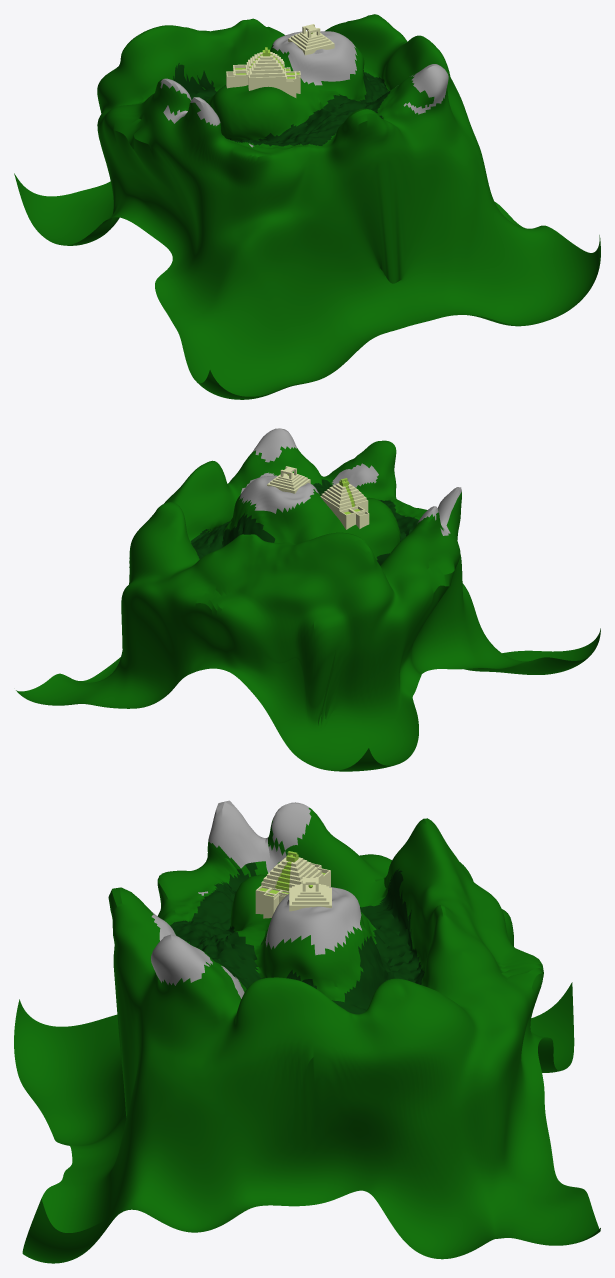
Rendered from ile_inkas.glb.
3 renders of one model, top to bottom at view 1: azimuth 30°, elevation 25°; view 2: azimuth 150°, elevation 25°; view 3: azimuth 270°, elevation 25°, orthographic. The views are drawn at different scales.
Parts seen in each view (by area): view 1: Plan, Cube, Cube.001; view 2: Plan, Cube, Cube.001; view 3: Plan, Cube, Cube.001.
Part boxes in pixels (box(x1,y1,x2,y2)): Plan: box(14, 14, 600, 399); Cube: box(226, 47, 300, 97); Cube.001: box(288, 24, 334, 55); Plan: box(16, 428, 600, 771); Cube: box(320, 478, 369, 529); Cube.001: box(267, 466, 310, 493); Plan: box(14, 800, 600, 1263); Cube: box(255, 851, 330, 918); Cube.001: box(289, 877, 331, 911).
Bounding box in the file's own units: 45.64 × 27.95 × 46.6.
